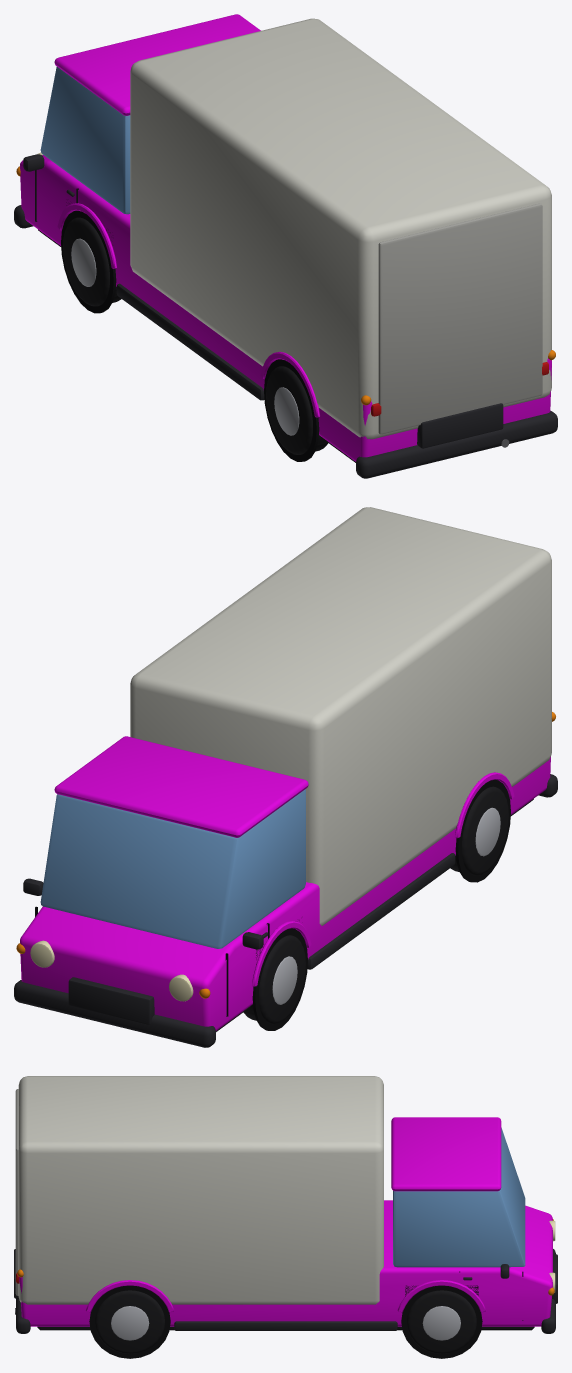
Rendered from HaulwellBoxTruck.fbx.
3 renders of one model, top to bottom at view 1: azimuth 30°, elevation 25°; view 2: azimuth 150°, elevation 25°; view 3: azimuth 270°, elevation 25°, orthographic. The views are drawn at different scales.
Visible parts, largest first — view 1: HaulwellBoxTruck; view 2: HaulwellBoxTruck; view 3: HaulwellBoxTruck.
Part boxes in pixels (left/top/right/bottom): HaulwellBoxTruck: left=14, top=14, right=557, bottom=478; HaulwellBoxTruck: left=14, top=507, right=557, bottom=1047; HaulwellBoxTruck: left=14, top=1076, right=557, bottom=1358.
Bounding box in the file's own units: 2.84 × 3.17 × 7.33.
